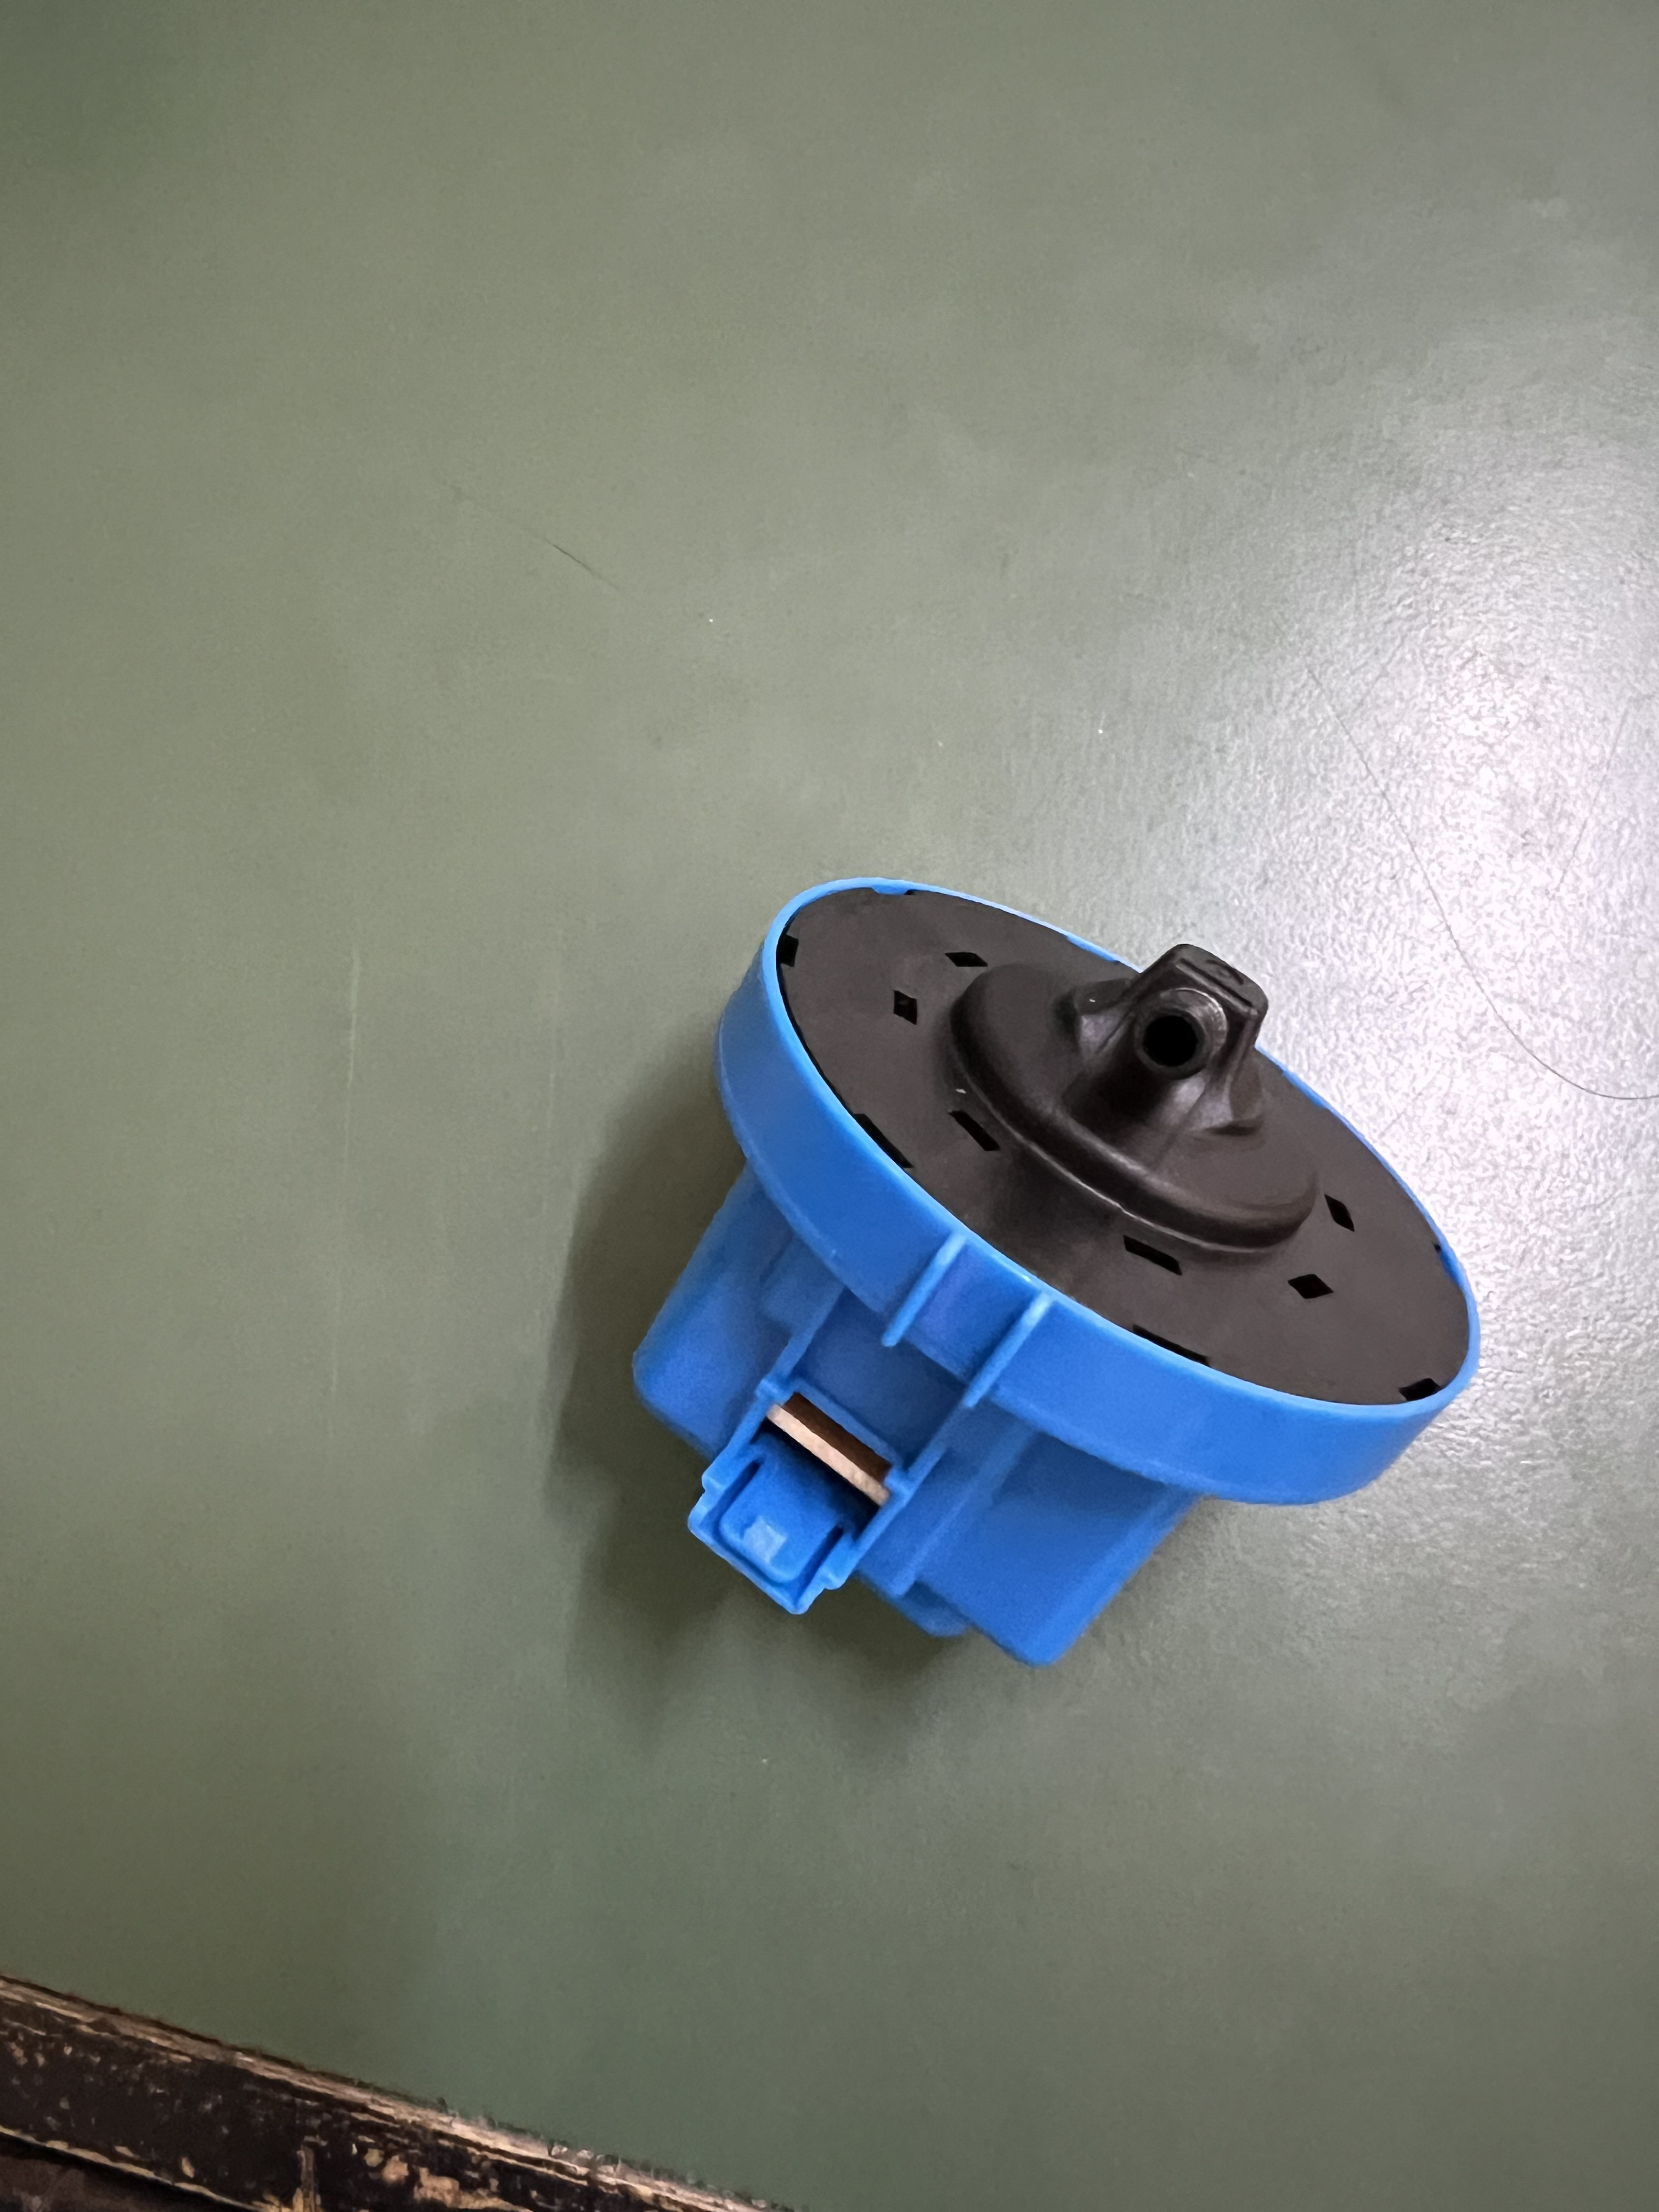voltas_beko_pressure_switch: (655, 850, 1506, 1710)
